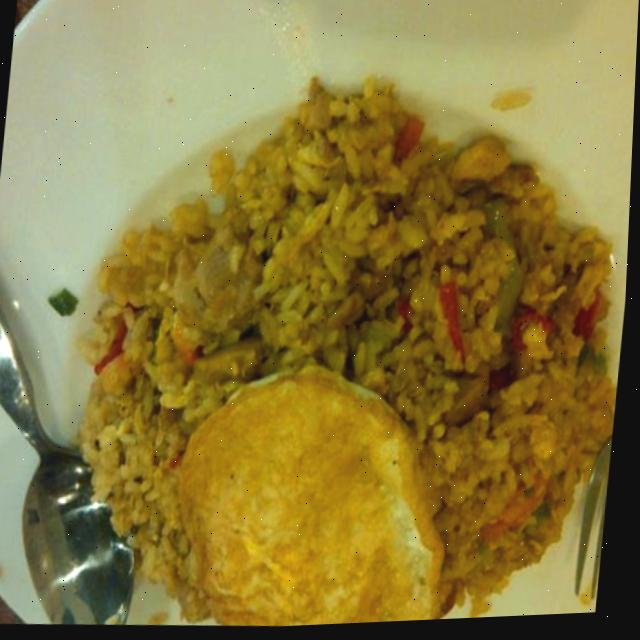米饭主食: (6, 44, 638, 639)
